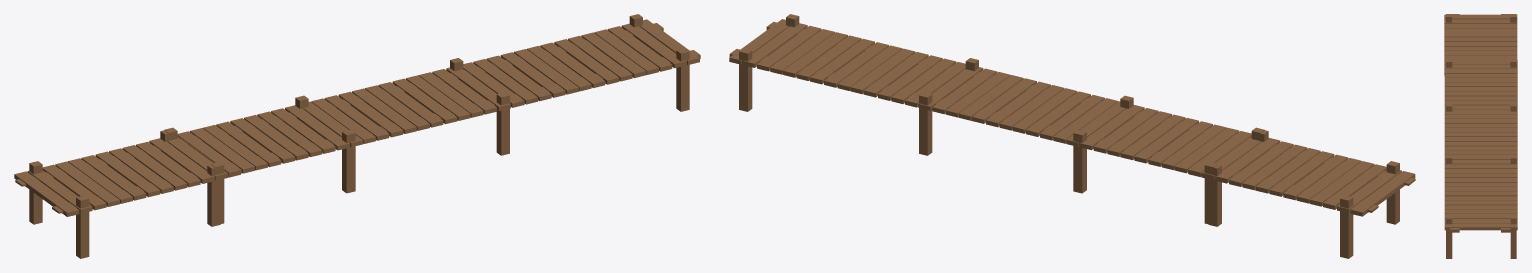
Rendered from Boardwalk2.fbx.
3 renders of one model, left to right at view 1: azimuth 30°, elevation 25°; view 2: azimuth 150°, elevation 25°; view 3: azimuth 270°, elevation 25°, orthographic. The views are drawn at different scales.
Visible parts, largest first — view 1: Plane.060; view 2: Plane.060; view 3: Plane.060.
Part boxes in pixels (x1=…): Plane.060: x1=14, y1=14, x2=700, y2=258; Plane.060: x1=729, y1=14, x2=1415, y2=258; Plane.060: x1=1444, y1=14, x2=1517, y2=258.
Size of the model in its own units: 803 by 70.26 by 115.
